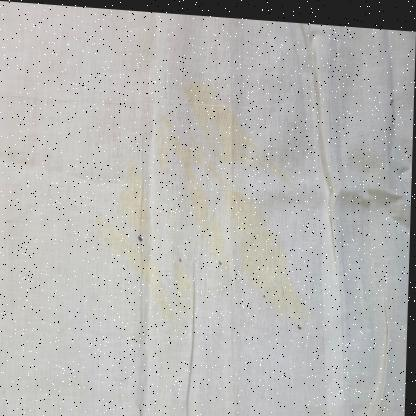spot: (87, 79, 239, 332), (173, 105, 317, 329), (178, 69, 307, 196), (107, 114, 154, 238)
